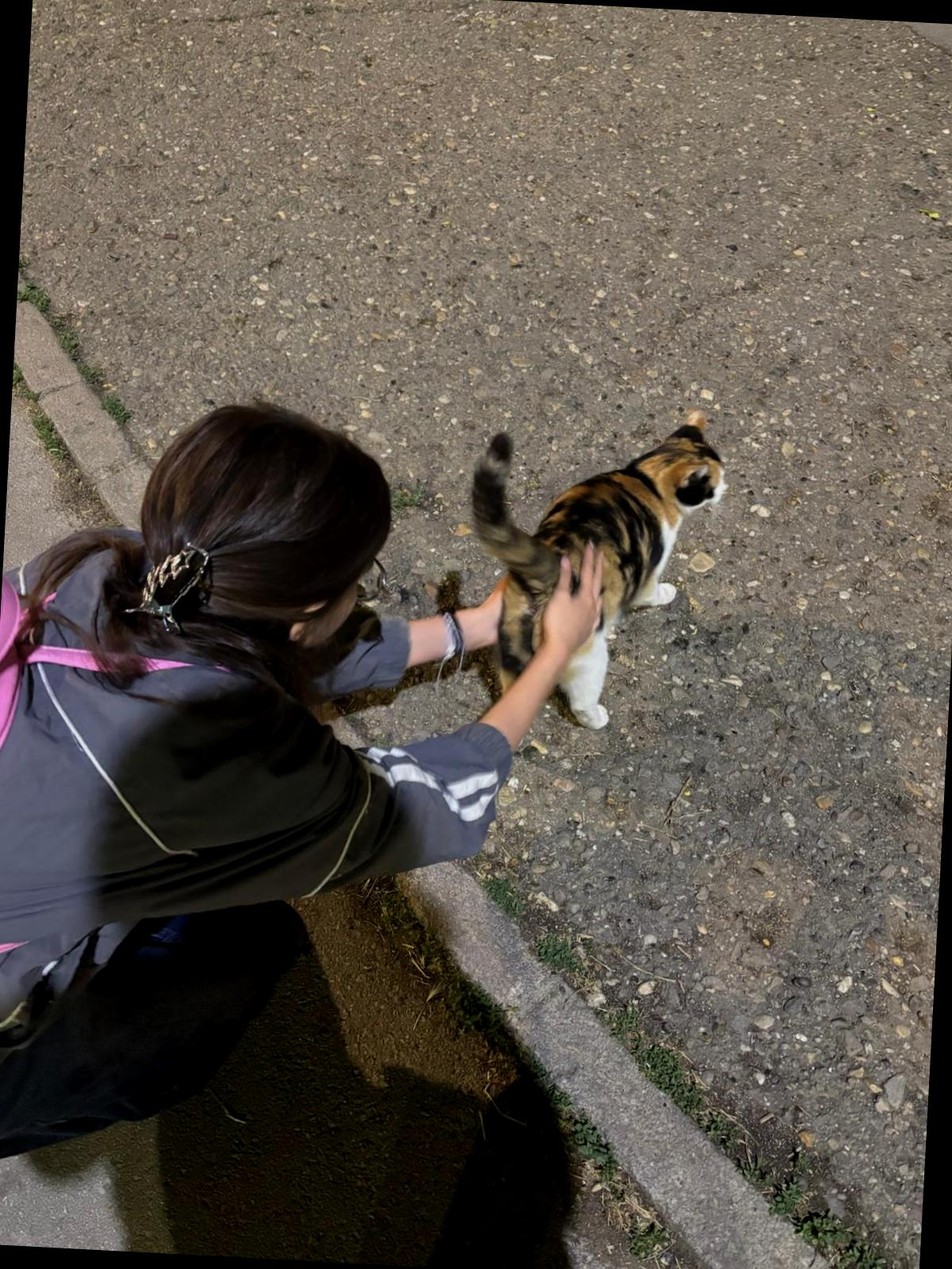macka: (458, 397, 733, 735)
